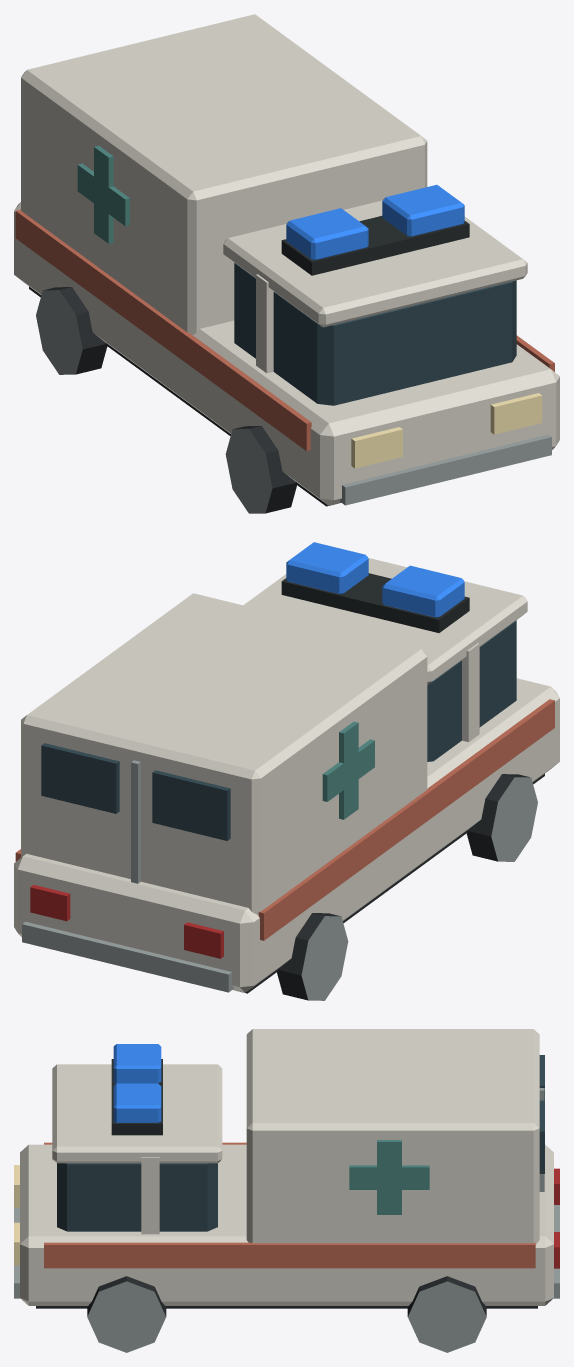
File: VEH_AMBULANCE.glb
The picture shows the model from 3 angles, top to bottom: view 1: azimuth 30°, elevation 25°; view 2: azimuth 150°, elevation 25°; view 3: azimuth 270°, elevation 25°; orthographic projection. The views are drawn at different scales.
Parts seen in each view (by area): view 1: Body, Wheel_FL, Wheel_RL, Beacon_R, Beacon_L; view 2: Body, Wheel_RL, Wheel_FL, Beacon_L, Beacon_R; view 3: Body, Wheel_FR, Wheel_RR, Beacon_R, Beacon_L.
Boxes of the visible parts, box(x1,y1,x2,y2) form: Body: box(14, 14, 559, 506); Wheel_FL: box(225, 426, 296, 513); Wheel_RL: box(36, 287, 107, 374); Beacon_R: box(382, 184, 464, 236); Beacon_L: box(286, 208, 368, 259); Body: box(14, 558, 559, 993); Wheel_RL: box(277, 913, 348, 1000); Wheel_FL: box(466, 774, 537, 861); Beacon_L: box(382, 565, 464, 617); Beacon_R: box(286, 542, 368, 593); Body: box(14, 1029, 559, 1308); Wheel_FR: box(87, 1276, 166, 1352); Wheel_RR: box(407, 1276, 486, 1352); Beacon_R: box(113, 1083, 161, 1122); Beacon_L: box(113, 1044, 161, 1083).
Size of the model in its own units: 0.354 by 0.3375 by 0.746.
